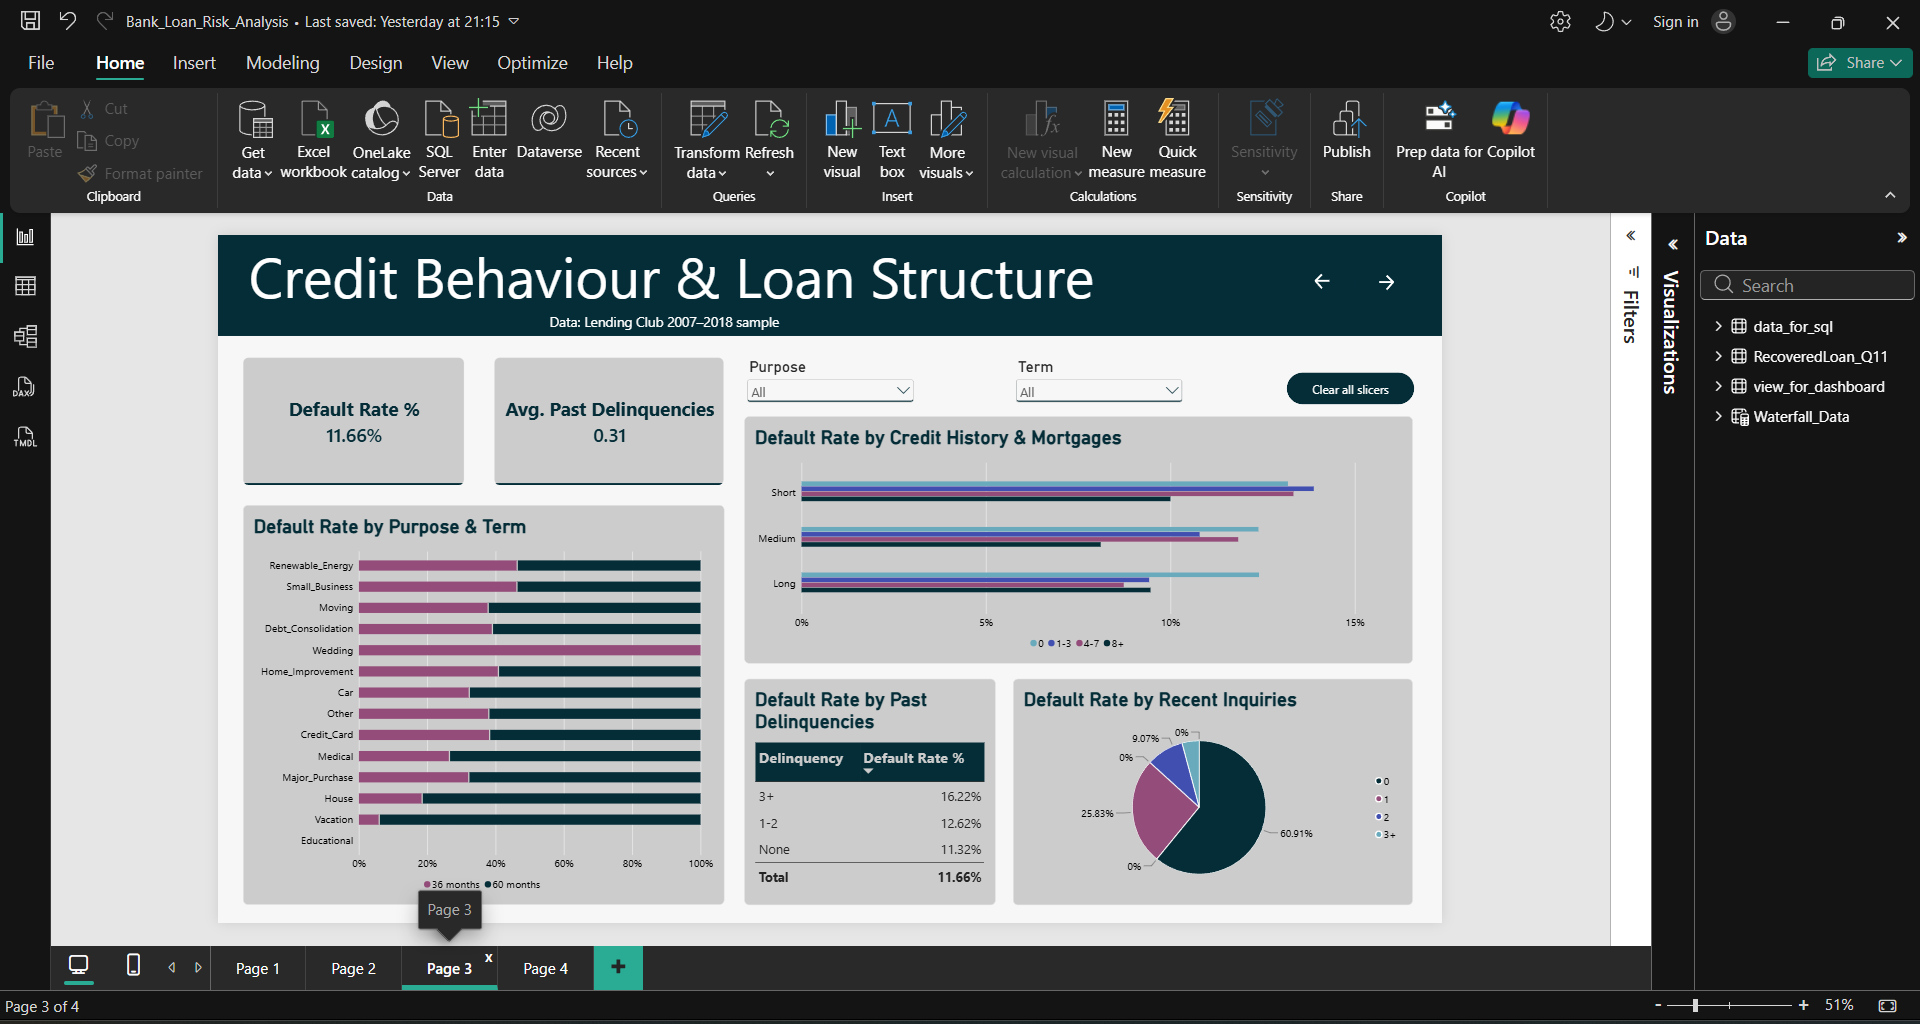

The dashboard page shown, as its layout file describes it:
{"tool":"powerbi","page":{"name":"Page 3","canvas":[1920,1080],"ordinal":2},"visuals":[{"type":"hundredPercentStackedBarChart","title":"Default Rate by Purpose & Term","fields":{"Category":["view_for_dashboard.Purpose"],"Series":["view_for_dashboard.Term"],"Y":["view_for_dashboard.Default Rate %"]},"box":[39.2,423.5,754.9,627.5],"z":0},{"type":"tableEx","title":"Default Rate by Past Delinquencies","fields":{"Values":["view_for_dashboard.Delinquency_Bucket_Clean","view_for_dashboard.Default Rate %"]},"box":[825.5,696.1,394.1,354.9],"z":1000},{"type":"clusteredBarChart","title":"Default Rate by Credit History & Mortgages","fields":{"Category":["view_for_dashboard.Credit_History_Bucket_Clean"],"Series":["view_for_dashboard.Mortgage_Bucket_Clean"],"Y":["view_for_dashboard.Default Rate %"]},"box":[825.5,284.3,1049,388.2],"z":2000},{"type":"cardVisual","fields":{"Data":["view_for_dashboard.Default Rate %"]},"box":[39.2,192.2,347.1,200],"z":3000},{"type":"textbox","box":[0,0,1919.6,158.3],"z":4000},{"type":"cardVisual","fields":{"Data":["Avg(view_for_dashboard.Delinquencies_2Years)"]},"box":[433.3,192.2,360.8,200],"z":5000},{"type":"pieChart","title":"Default Rate by Recent Inquiries","fields":{"Category":["view_for_dashboard.Inquiry_Bucket_Clean"],"Y":["CountNonNull(view_for_dashboard.Public_Records_Bankruptcies)","view_for_dashboard.Default Rate %"]},"box":[1247.1,696.1,627.5,354.9],"z":6000},{"type":"slicer","fields":{"Values":["view_for_dashboard.Purpose"]},"box":[825.5,192.2,270.6,74.5],"z":7000},{"type":"slicer","fields":{"Values":["view_for_dashboard.Term"]},"box":[1247.1,192.2,270.6,74.5],"z":8000},{"type":"actionButton","box":[1676.7,215.3,200,50],"z":9000},{"type":"actionButton","box":[1682.2,53.4,100,40],"z":10000},{"type":"actionButton","box":[1782,54,100,40],"z":11000}]}

Visuals, with their boxes on the page's 1920x1080 design canvas (x1, y1, x2, y2). These are canvas units, not pixel positions in the 1920x1024 screenshot, which may show the page scaled, cropped or inside an application window:
"Default Rate by Purpose & Term" hundredPercentStackedBarChart: l=39, t=424, r=794, b=1051
"Default Rate by Past Delinquencies" tableEx: l=826, t=696, r=1220, b=1051
"Default Rate by Credit History & Mortgages" clusteredBarChart: l=826, t=284, r=1874, b=672
cardVisual - view_for_dashboard.Default Rate %: l=39, t=192, r=386, b=392
textbox: l=0, t=0, r=1920, b=158
cardVisual - Avg(view_for_dashboard.Delinquencies_2Years): l=433, t=192, r=794, b=392
"Default Rate by Recent Inquiries" pieChart: l=1247, t=696, r=1875, b=1051
slicer - view_for_dashboard.Purpose: l=826, t=192, r=1096, b=267
slicer - view_for_dashboard.Term: l=1247, t=192, r=1518, b=267
actionButton: l=1677, t=215, r=1877, b=265
actionButton: l=1682, t=53, r=1782, b=93
actionButton: l=1782, t=54, r=1882, b=94
